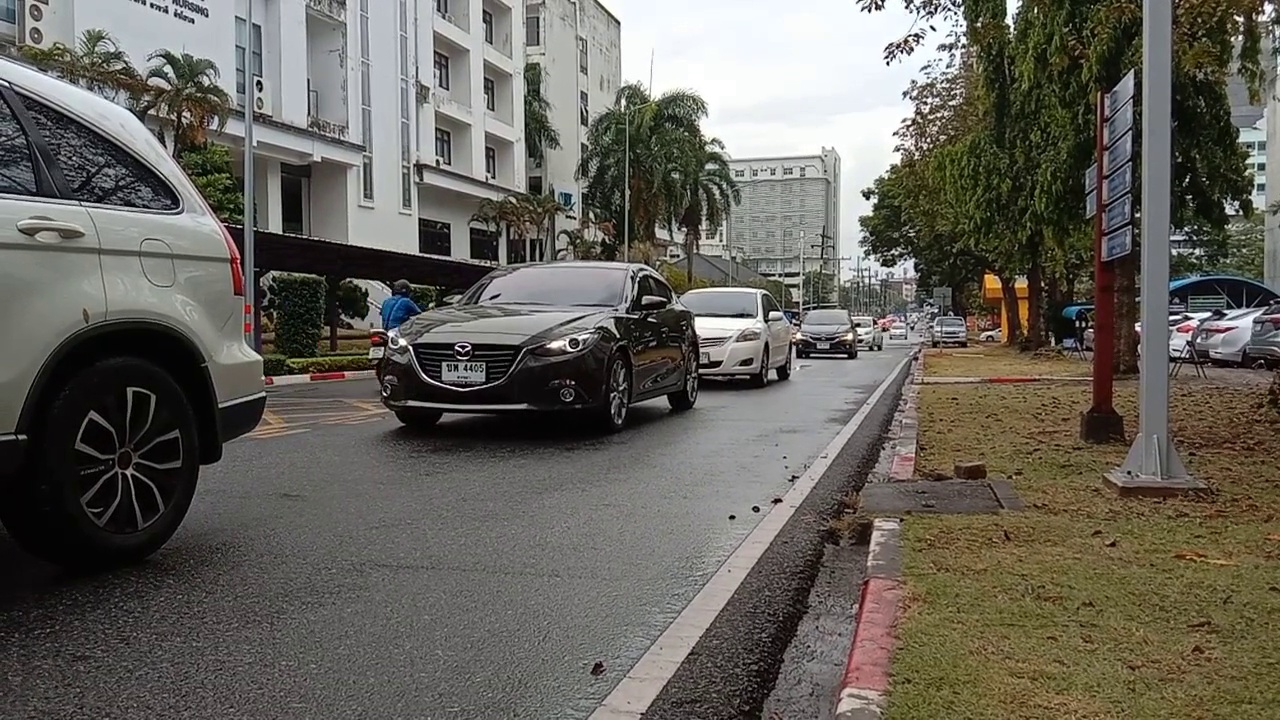License Plate: (440, 359, 487, 385)
